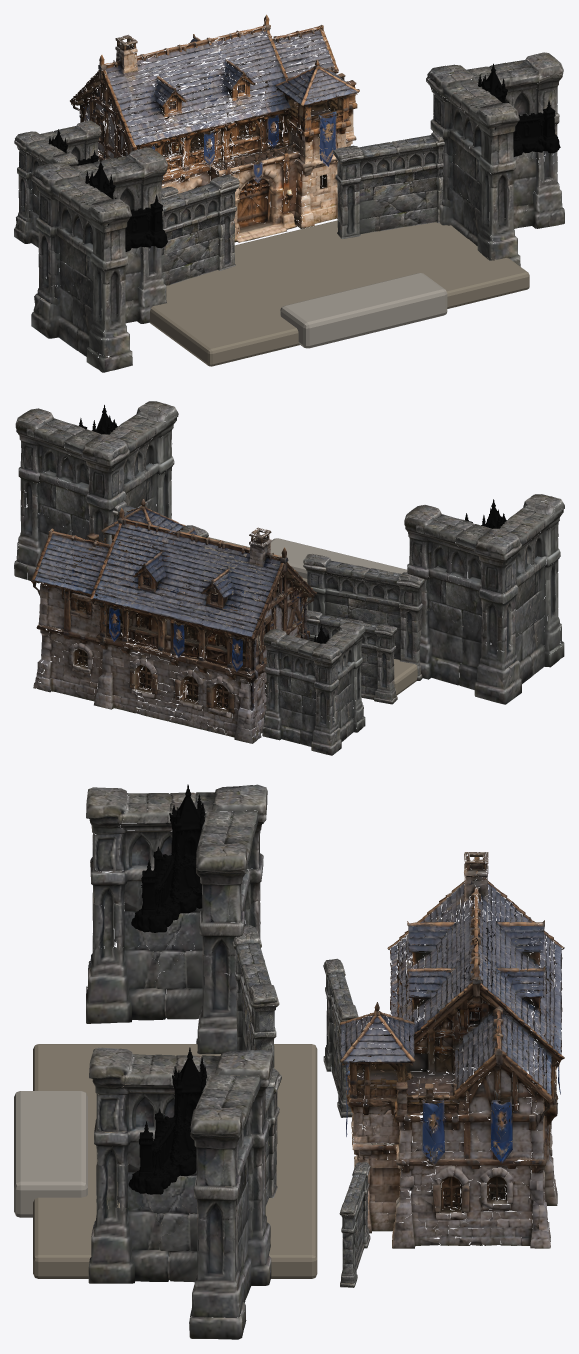
Rendered from Valoria_Cuartel_CFSv1.glb.
3 renders of one model, top to bottom at view 1: azimuth 30°, elevation 25°; view 2: azimuth 150°, elevation 25°; view 3: azimuth 270°, elevation 25°, orthographic. The views are drawn at different scales.
Parts seen in each view (by area): view 1: Cuartel core · rich 00, Cuartel · training yard, Cuartel front guard tower · rich 00.001, Cuartel front guard tower · rich 00, Cuartel training wall · rich 00, Cuartel · gate threshold, Cuartel training wall · rich 00.001, Cuartel core · rich 03, Cuartel front guard tower · rich 01, Cuartel front guard tower · rich 01.001; view 2: Cuartel core · rich 00, Cuartel front guard tower · rich 00.001, Cuartel front guard tower · rich 00, Cuartel core · rich 03, Cuartel training wall · rich 00.001, Cuartel core · rich 01, Cuartel · training yard, Cuartel · gate threshold, Cuartel training wall · rich 00; view 3: Cuartel core · rich 00, Cuartel front guard tower · rich 00, Cuartel front guard tower · rich 00.001, Cuartel · training yard, Cuartel · gate threshold, Cuartel front guard tower · rich 01.001, Cuartel front guard tower · rich 01, Cuartel training wall · rich 00.001, Cuartel core · rich 01, Cuartel core · rich 02, Cuartel core · rich 03, Cuartel training wall · rich 00.
Boxes of the visible parts, x1,y1,x2,y2 form: Cuartel core · rich 00: (70, 14, 359, 242); Cuartel · training yard: (150, 211, 529, 366); Cuartel front guard tower · rich 00.001: (31, 147, 167, 372); Cuartel front guard tower · rich 00: (426, 52, 564, 266); Cuartel training wall · rich 00: (333, 129, 456, 238); Cuartel · gate threshold: (280, 273, 447, 348); Cuartel training wall · rich 00.001: (136, 175, 239, 287); Cuartel core · rich 03: (14, 120, 101, 262); Cuartel front guard tower · rich 01: (473, 63, 560, 156); Cuartel front guard tower · rich 01.001: (85, 160, 167, 251); Cuartel core · rich 00: (31, 499, 316, 743); Cuartel front guard tower · rich 00.001: (404, 494, 564, 704); Cuartel front guard tower · rich 00: (14, 401, 178, 584); Cuartel core · rich 03: (262, 622, 365, 755); Cuartel training wall · rich 00.001: (303, 554, 424, 680); Cuartel core · rich 01: (302, 610, 397, 704); Cuartel · training yard: (121, 537, 480, 695); Cuartel · gate threshold: (254, 538, 407, 594); Cuartel training wall · rich 00: (108, 501, 208, 617); Cuartel core · rich 00: (339, 852, 564, 1248); Cuartel front guard tower · rich 00: (88, 1047, 273, 1339); Cuartel front guard tower · rich 00.001: (86, 784, 267, 1054); Cuartel · training yard: (33, 1044, 317, 1278); Cuartel · gate threshold: (14, 1091, 87, 1217); Cuartel front guard tower · rich 01.001: (131, 784, 205, 932); Cuartel front guard tower · rich 01: (128, 1047, 207, 1194); Cuartel training wall · rich 00.001: (232, 925, 279, 1069); Cuartel core · rich 01: (323, 958, 358, 1117); Cuartel core · rich 02: (339, 1162, 370, 1287); Cuartel core · rich 03: (421, 916, 531, 1103); Cuartel training wall · rich 00: (232, 1069, 281, 1221).
Size of the model in its own units: 6.08 by 2.2 by 4.17.
Materials: 16 (14 with a texture image).
